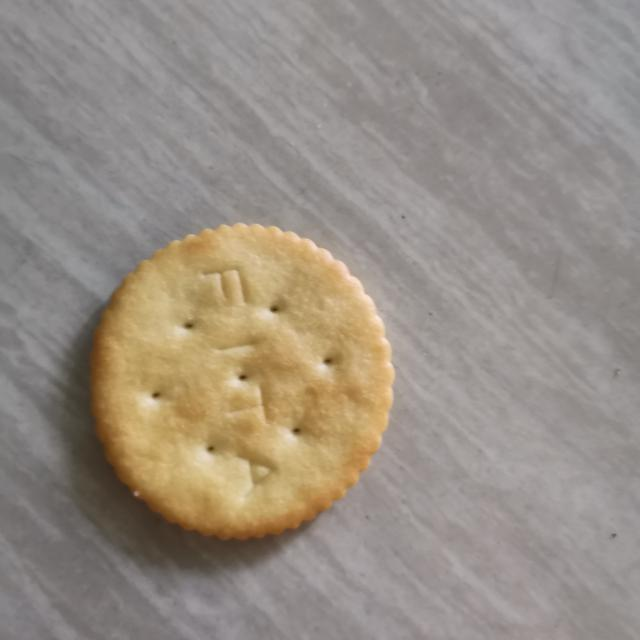Intact: (82, 213, 401, 552)
